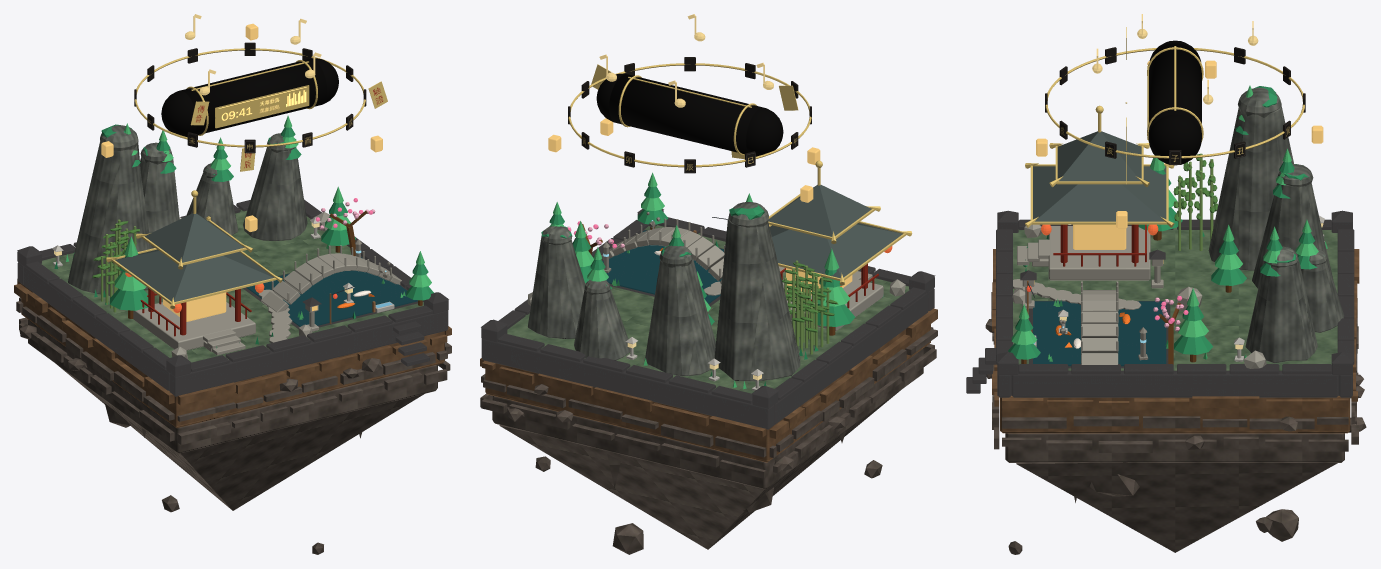
The model's file is tianmu.glb.
3 views of the same model, side by side, from view 1: azimuth 30°, elevation 25°; view 2: azimuth 150°, elevation 25°; view 3: azimuth 270°, elevation 25° (orthographic). The views are drawn at different scales.
Visible parts, largest first — view 1: island_rock, island_stone_dark, island_karst, island_soil, island_stone, island_moss, capsule_lacquer, island_roof, island_water, island_leaf_dark, fx_roof1_roof, capsule_display (+9 smaller); view 2: island_rock, island_karst, island_stone_dark, island_soil, capsule_lacquer, island_moss, island_roof, island_stone, fx_roof1_roof, island_leaf_dark, island_water, island_bamboo (+7 smaller); view 3: island_rock, island_stone_dark, island_karst, island_moss, island_soil, island_stone, island_roof, capsule_lacquer, island_water, island_leaf_dark, fx_roof1_roof, island_leaf (+10 smaller).
Boxes of the visible parts, <box> form: island_rock: <box>16,297,451,554</box>; island_stone_dark: <box>17,199,448,396</box>; island_karst: <box>68,125,307,295</box>; island_soil: <box>14,279,451,427</box>; island_stone: <box>133,212,401,359</box>; island_moss: <box>41,210,423,362</box>; capsule_lacquer: <box>161,58,338,137</box>; island_roof: <box>115,249,274,301</box>; island_water: <box>246,257,417,326</box>; island_leaf_dark: <box>54,124,433,348</box>; fx_roof1_roof: <box>145,213,244,262</box>; capsule_display: <box>215,85,309,128</box>; island_rock: <box>480,327,937,554</box>; island_karst: <box>527,202,800,381</box>; island_stone_dark: <box>481,208,935,429</box>; island_soil: <box>480,308,937,462</box>; capsule_lacquer: <box>596,73,783,156</box>; island_moss: <box>507,225,909,393</box>; island_roof: <box>769,223,902,278</box>; island_stone: <box>527,218,905,331</box>; fx_roof1_roof: <box>768,185,871,236</box>; island_leaf_dark: <box>541,186,883,385</box>; island_water: <box>602,230,723,303</box>; island_bamboo: <box>784,260,829,354</box>; island_rock: <box>985,292,1366,554</box>; island_stone_dark: <box>966,210,1354,397</box>; island_karst: <box>1208,87,1343,363</box>; island_moss: <box>1013,227,1337,370</box>; island_soil: <box>992,249,1359,433</box>; island_stone: <box>1012,224,1266,368</box>; island_roof: <box>1033,166,1166,221</box>; capsule_lacquer: <box>1148,40,1201,165</box>; island_water: <box>1033,301,1166,366</box>; island_leaf_dark: <box>1008,86,1317,359</box>; fx_roof1_roof: <box>1057,131,1141,181</box>; island_leaf: <box>1011,85,1327,361</box>.
Size of the model in its own units: 4.28 by 6.58 by 4.5.
39 materials, 26 textured.
